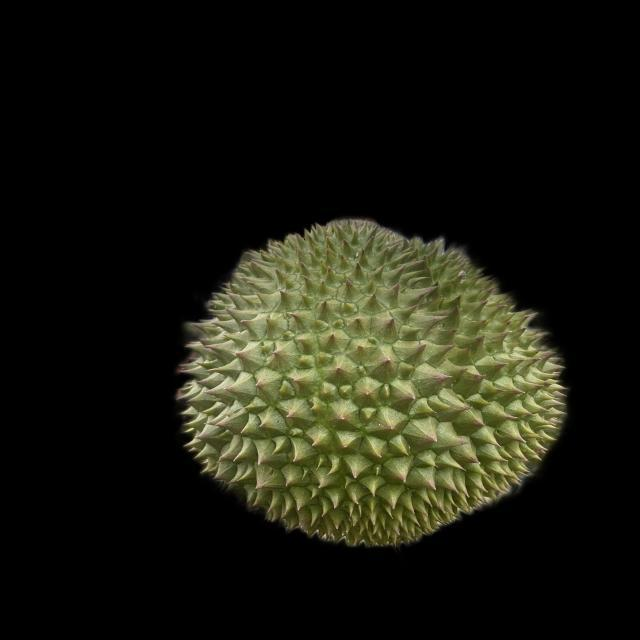immature: (169, 213, 561, 545)
